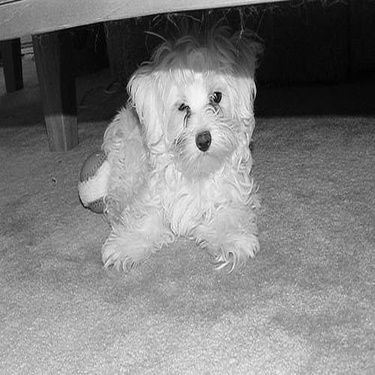dog: (63, 18, 273, 278)
